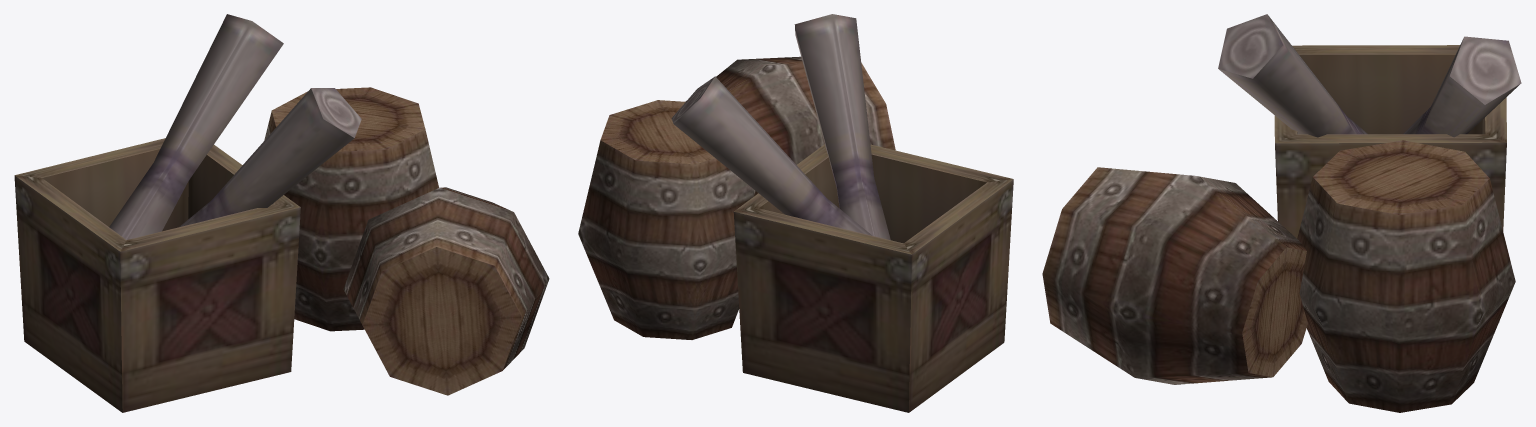
Rendered from SD_xiangzi02.FBX.
The picture shows the model from 3 angles, left to right: view 1: azimuth 30°, elevation 25°; view 2: azimuth 150°, elevation 25°; view 3: azimuth 270°, elevation 25°; orthographic projection. The views are drawn at different scales.
Parts seen in each view (by area): view 1: SD_xiangzi02; view 2: SD_xiangzi02; view 3: SD_xiangzi02.
Boxes of the visible parts, x1,y1,x2,y2 form: SD_xiangzi02: [14, 14, 549, 412]; SD_xiangzi02: [578, 14, 1013, 412]; SD_xiangzi02: [1042, 14, 1521, 412].
Size of the model in its own units: 69.47 by 49.83 by 68.35.
1 material, 1 textured.
